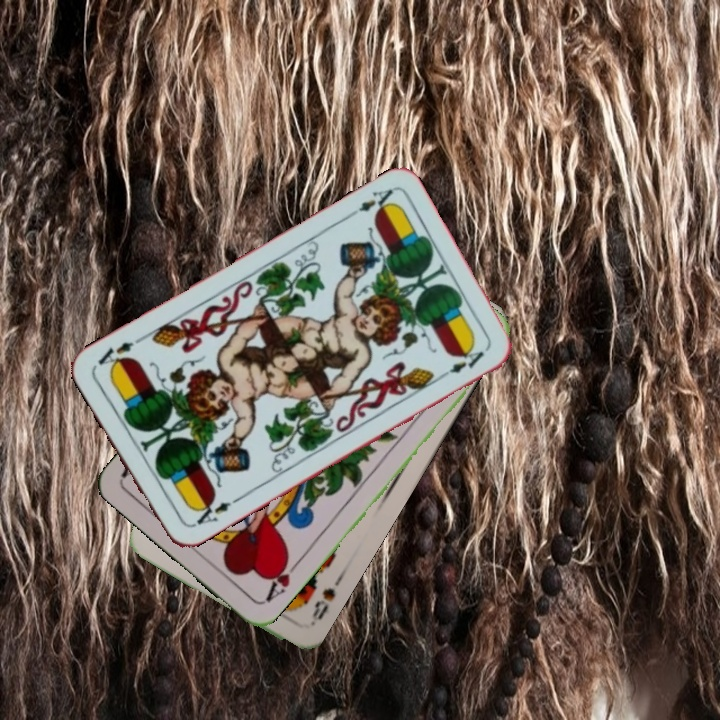EA: (342, 184, 398, 222), (187, 494, 241, 530)
HA: (261, 550, 303, 605)
S8: (306, 583, 338, 629)
